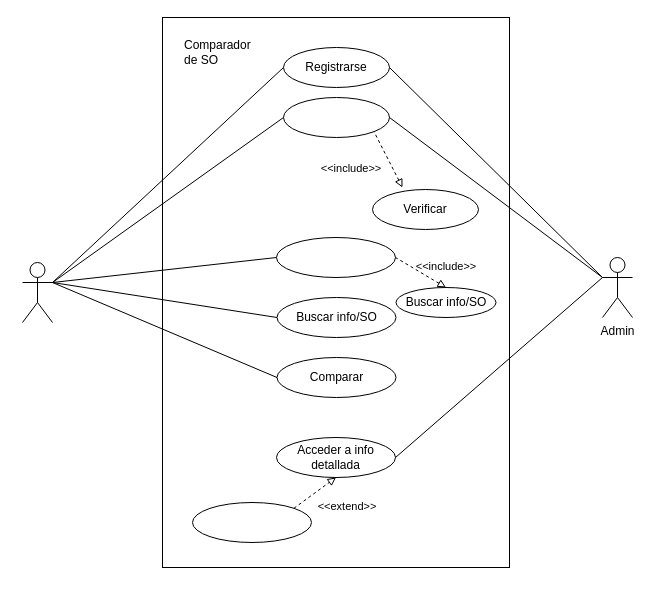
This 652x593 diagram has some shape labels left out. The centre of each missing label's shape, as x and y in pixels:
Actualizar info.: (x=252, y=522)
Iniciar sesión: (x=336, y=117)
Usuario: (x=37, y=292)
Ver info de los S.O.: (x=336, y=257)
